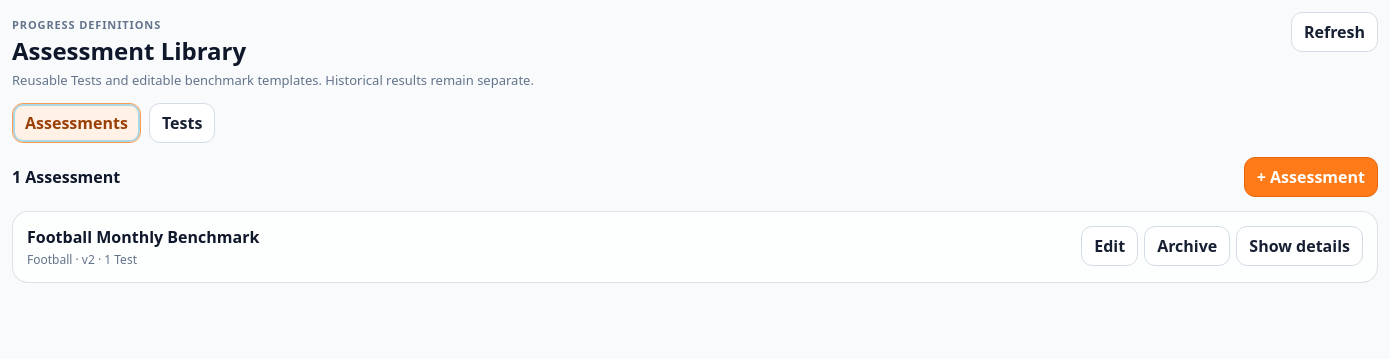
Test case: AssessmentTemplateLibrary › switches to canonical Tests with metric, tag and usage summaries
This screenshot has width=1390, height=359.
Expected: the text "Football Monthly Benchmark" is shown, top-left (27, 226), bottom-right (259, 248)
Click the button "Tests". click: (182, 123)
box: top-left (149, 103), bottom-right (215, 143)
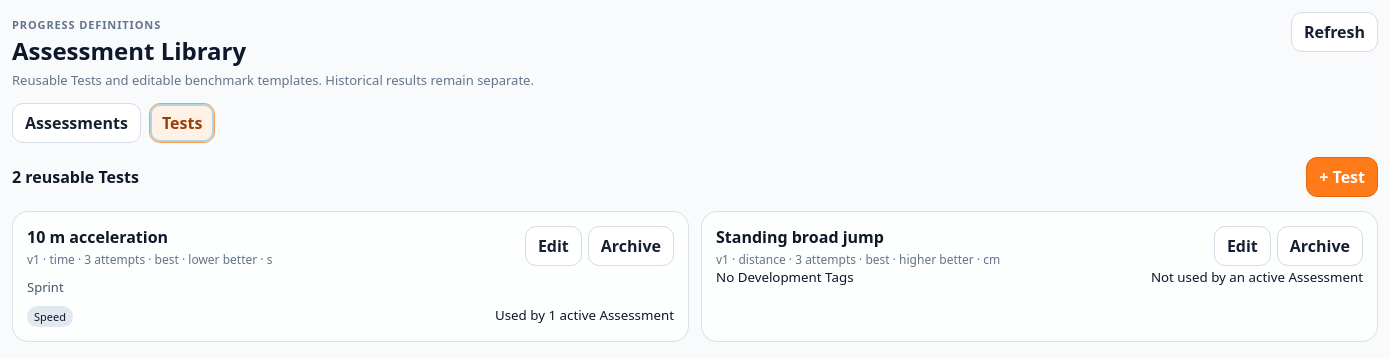
Expected: the text "2 reusable Tests" is shown, top-left (12, 166), bottom-right (139, 188)
Expected: the text "Speed" is shown, top-left (27, 306), bottom-right (73, 327)
Expected: the text "Used by 1 active Assessment" is shown, top-left (495, 306), bottom-right (674, 324)
